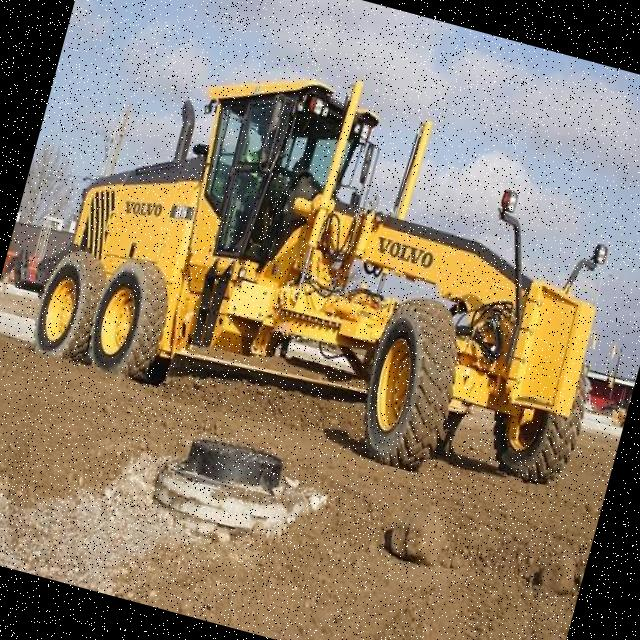Grader: (16, 6, 640, 527)
